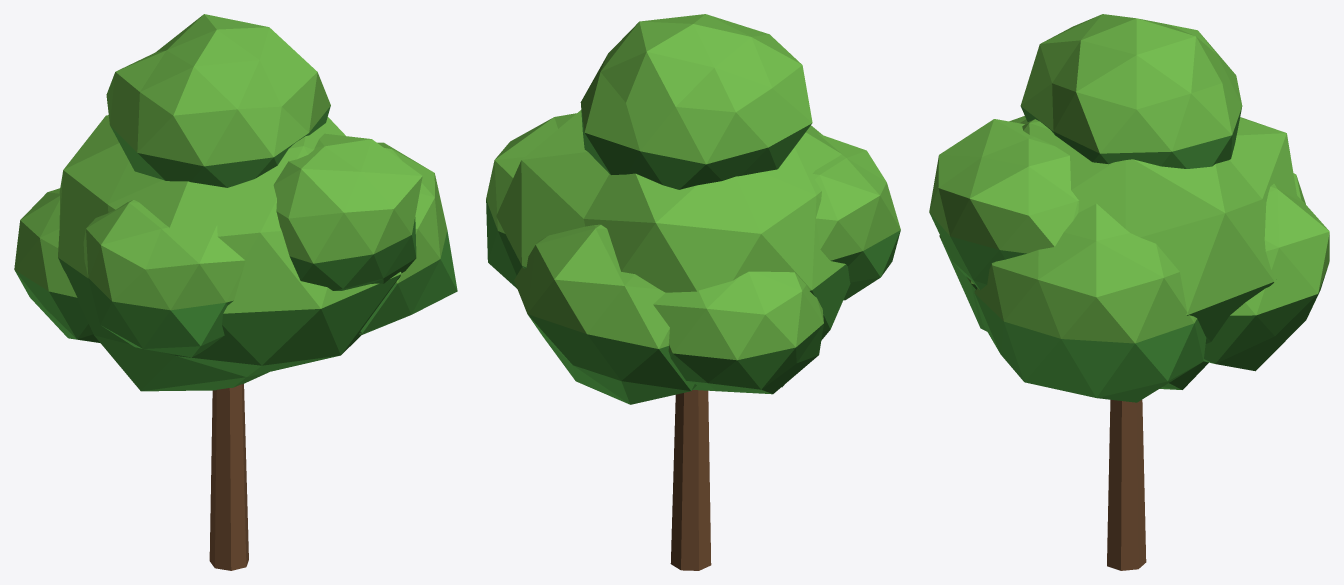
Rendered from veg_tree_b.glb.
3 views of the same model, side by side, from view 1: azimuth 30°, elevation 25°; view 2: azimuth 150°, elevation 25°; view 3: azimuth 270°, elevation 25° (orthographic). The views are drawn at different scales.
Parts seen in each view (by area): view 1: veg_tree_b; view 2: veg_tree_b; view 3: veg_tree_b.
Part boxes in pixels (x1,y1,x2,y2): veg_tree_b: (14, 14, 457, 570); veg_tree_b: (486, 14, 900, 570); veg_tree_b: (929, 14, 1329, 570).
Bounding box in the file's own units: 4.47 × 6.36 × 4.27.
